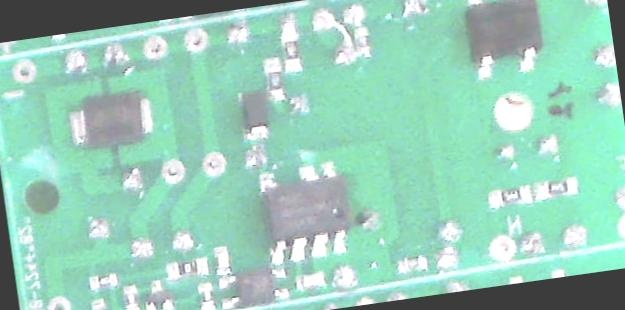chip-capacitor: (292, 270, 326, 292), (210, 245, 232, 277)
chip-resistor: (532, 175, 580, 202), (484, 183, 533, 209), (162, 255, 210, 281), (276, 26, 302, 73), (259, 55, 285, 102), (392, 254, 428, 276), (86, 272, 119, 292), (194, 280, 216, 310), (350, 25, 370, 57), (119, 282, 139, 310), (89, 297, 108, 310)
diode: (63, 88, 155, 153), (235, 89, 272, 143)
ic: (253, 158, 356, 267), (456, 0, 548, 82), (214, 264, 290, 310)
transistor: (137, 276, 173, 310)
